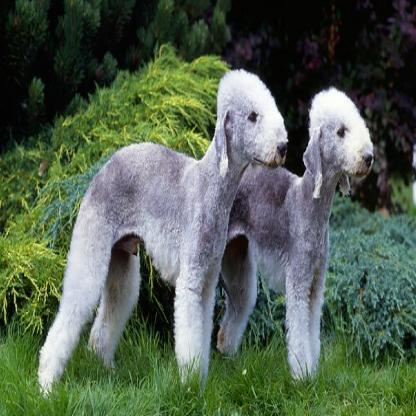Bedlington Terrier: (38, 55, 290, 353), (275, 57, 384, 416)
